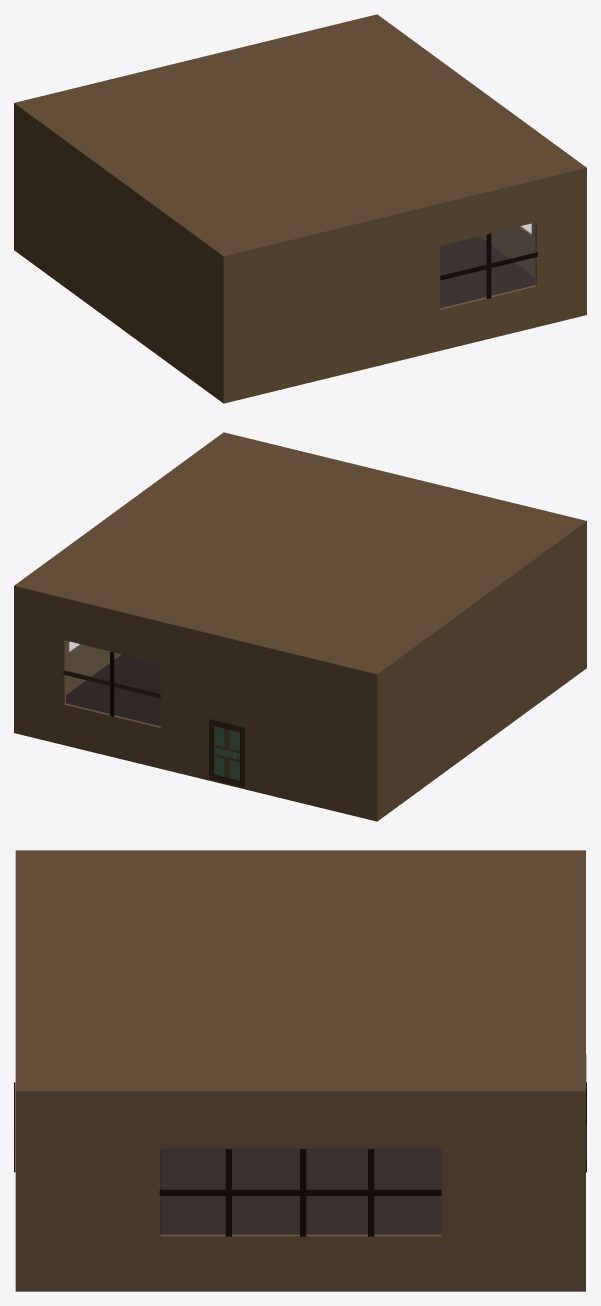
The model's file is level_duvar_kapı.fbx.
3 views of the same model, one above another, from view 1: azimuth 30°, elevation 25°; view 2: azimuth 150°, elevation 25°; view 3: azimuth 270°, elevation 25° (orthographic). The views are drawn at different scales.
Visible parts, largest first — view 1: zemin, ust_duvar; view 2: zemin, ust_duvar, kapi; view 3: ust_duvar, zemin.
Part boxes in pixels (x1,y1,x2,y2): zemin: (14,105,586,403); ust_duvar: (14,14,586,258); zemin: (14,523,586,821); ust_duvar: (14,432,586,676); kapi: (209,719,245,787); ust_duvar: (15,850,585,1094); zemin: (14,1082,586,1291).
Size of the model in its own units: 6018 by 2324 by 6028.
